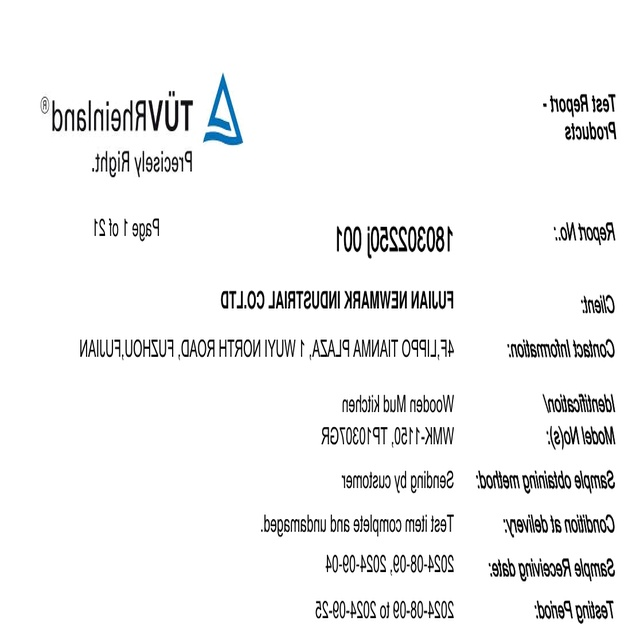tuv_rheinland: (42, 72, 245, 148)
